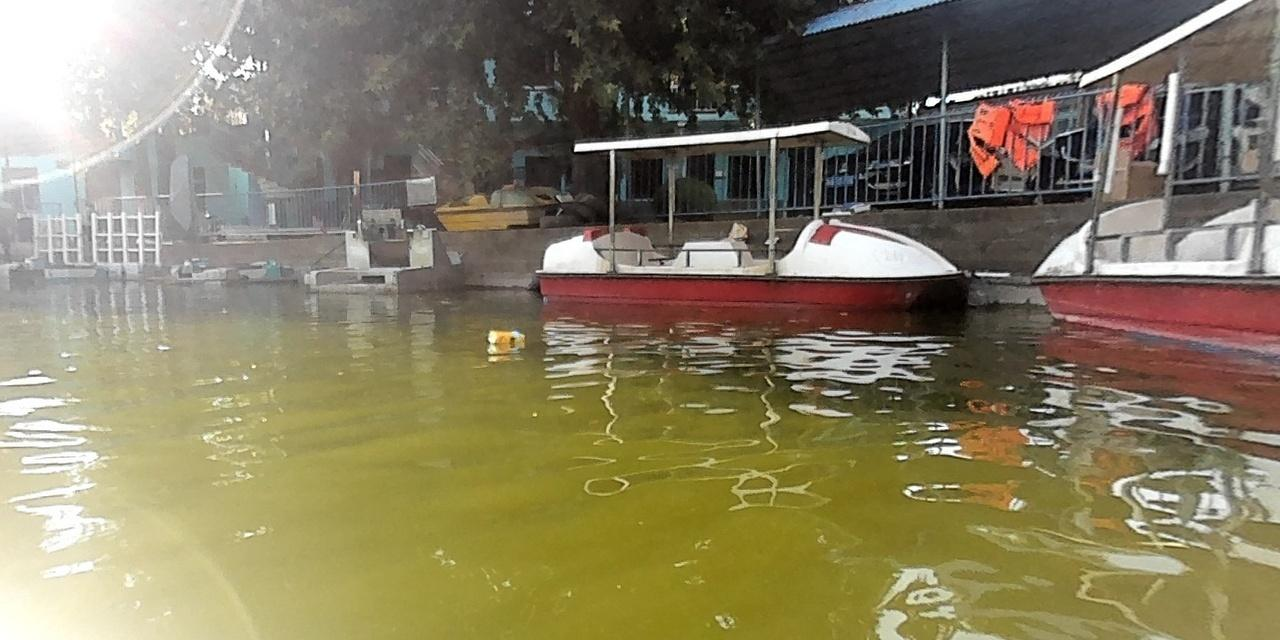bottle: (486, 328, 524, 344)
